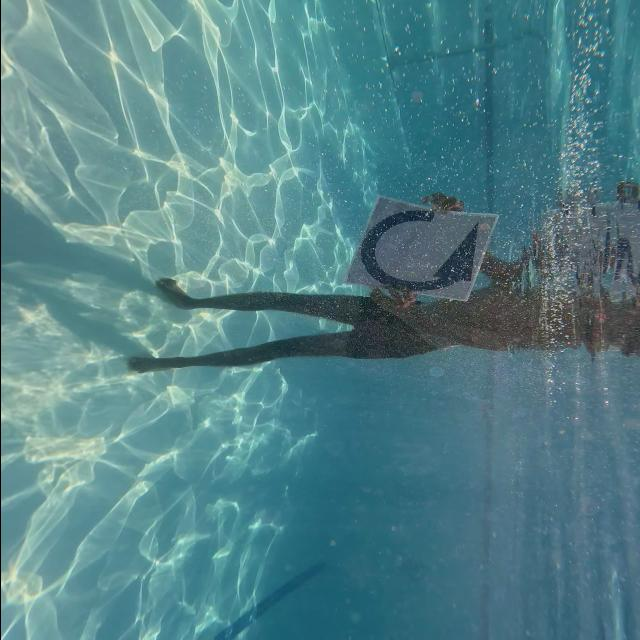blue_side: (340, 200, 511, 300)
